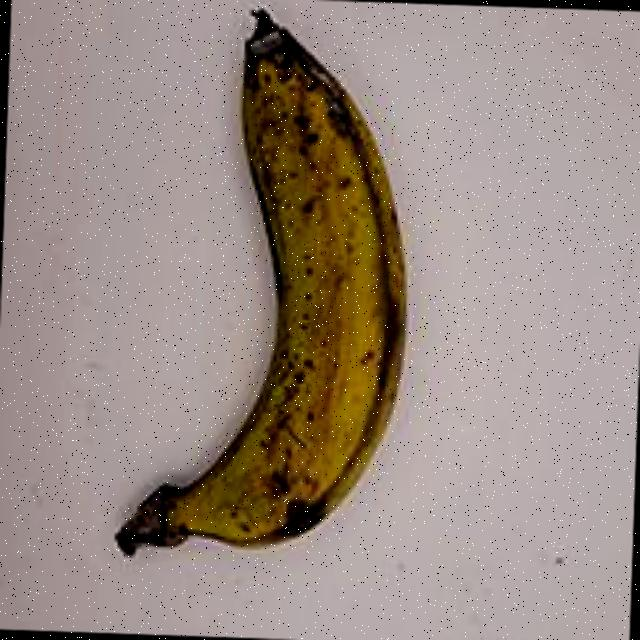Overripe: (65, 0, 470, 587)
